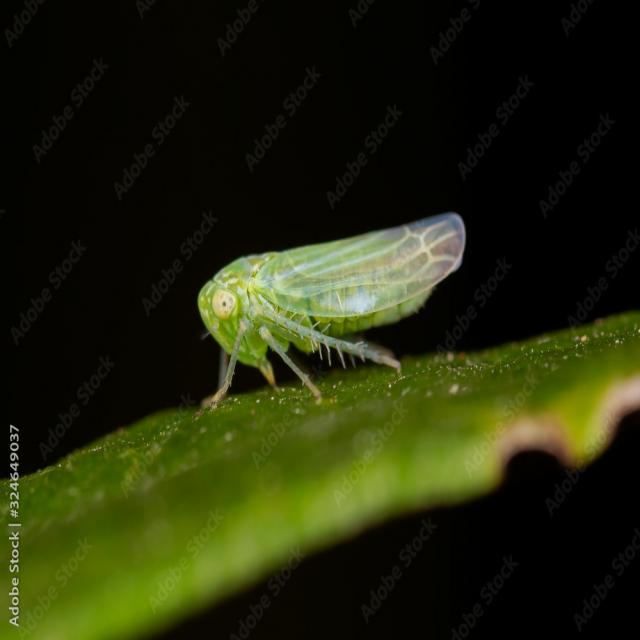Yechan: (170, 209, 484, 377)
